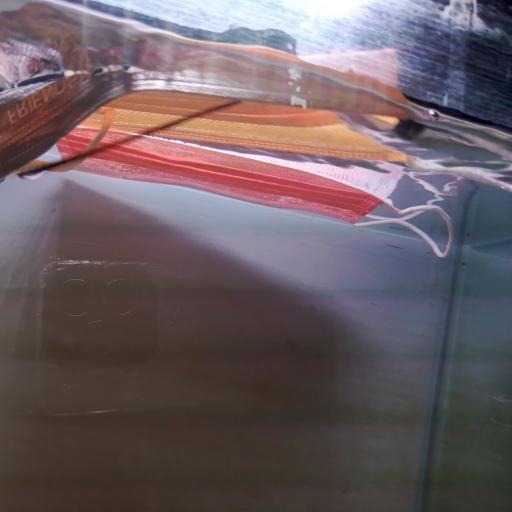mask: (52, 123, 458, 255), (0, 74, 422, 176)
